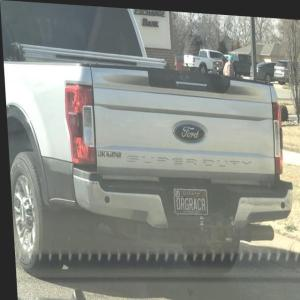Plate: (173, 188, 207, 216)
